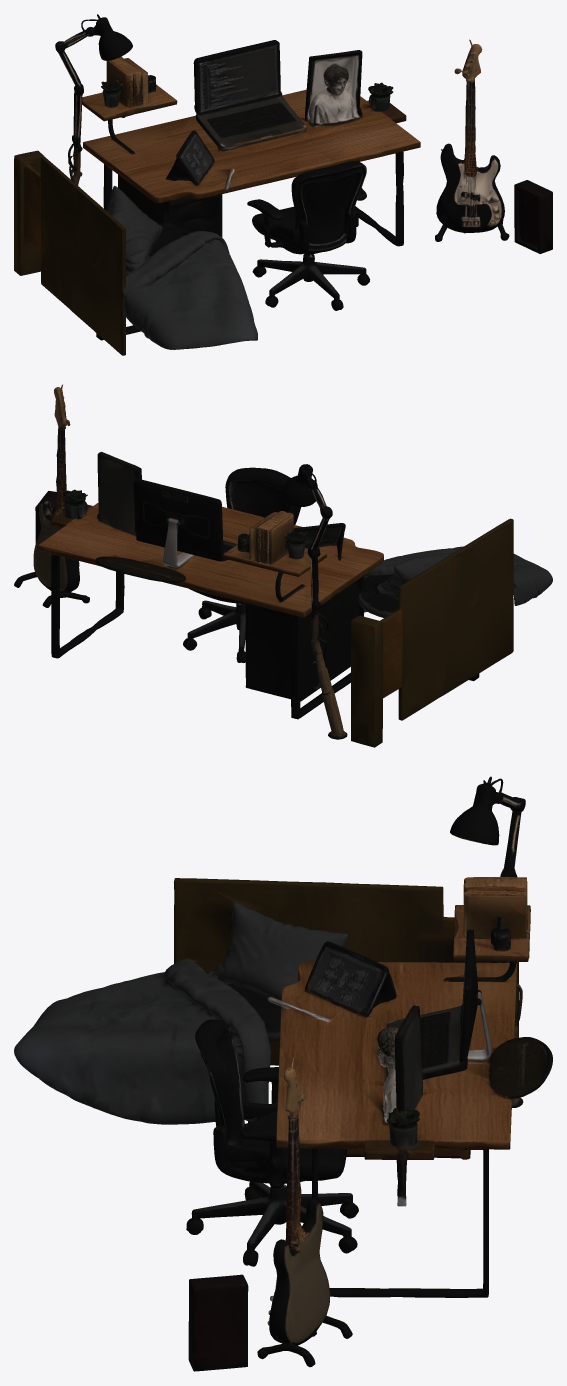
Rendered from room-3d-lite.glb.
The picture shows the model from 3 angles, top to bottom: view 1: azimuth 30°, elevation 25°; view 2: azimuth 150°, elevation 25°; view 3: azimuth 270°, elevation 25°; orthographic projection. The views are drawn at different scales.
Visible parts, largest first — view 1: tripo_node_ea366ce3-75f6-42dc-ad20-02c5131ed846, bass; view 2: tripo_node_ea366ce3-75f6-42dc-ad20-02c5131ed846, bass; view 3: tripo_node_ea366ce3-75f6-42dc-ad20-02c5131ed846, bass.
Part boxes in pixels (<box>): tripo_node_ea366ce3-75f6-42dc-ad20-02c5131ed846: <box>14,14,552,355</box>; bass: <box>435,39,509,241</box>; tripo_node_ea366ce3-75f6-42dc-ad20-02c5131ed846: <box>35,452,552,747</box>; bass: <box>14,384,89,607</box>; tripo_node_ea366ce3-75f6-42dc-ad20-02c5131ed846: <box>14,776,552,1371</box>; bass: <box>257,1057,352,1367</box>.
Bounding box in the file's own units: 1 × 0.5534 × 0.7464.
Materials: 1 (1 with a texture image).
